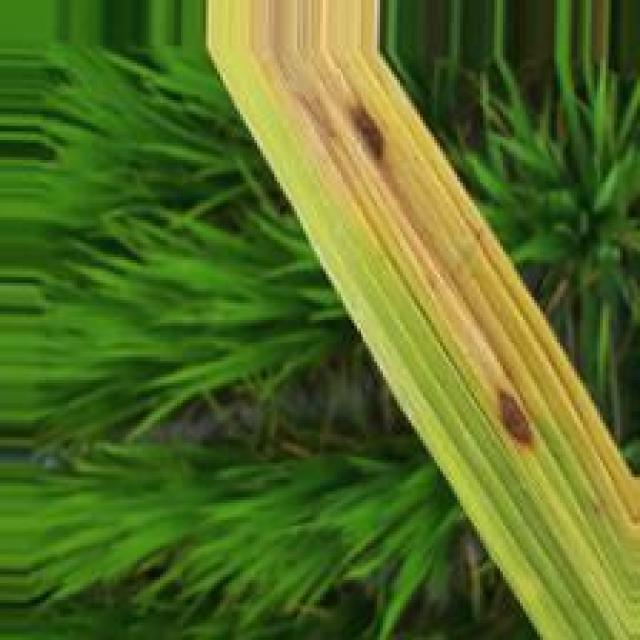Brown_Spot: (494, 377, 547, 456), (342, 100, 393, 176), (289, 79, 347, 145)
